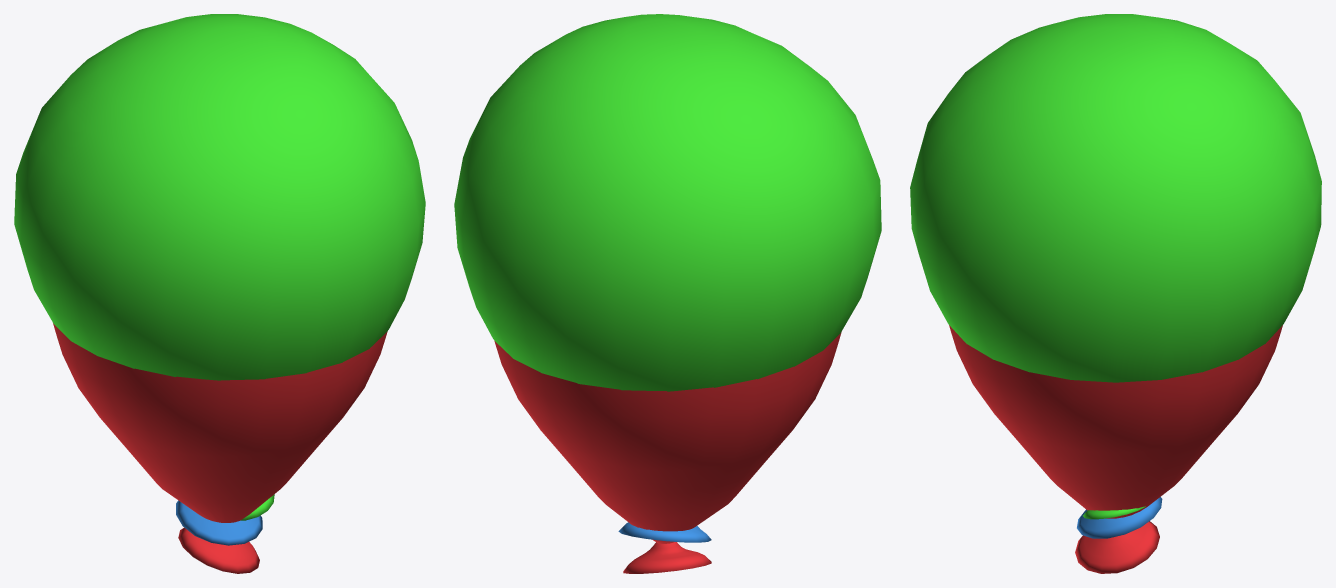
File: Balloons_01.fbx
3 renders of one model, left to right at view 1: azimuth 30°, elevation 25°; view 2: azimuth 150°, elevation 25°; view 3: azimuth 270°, elevation 25°, orthographic. The views are drawn at different scales.
Parts seen in each view (by area): view 1: Balloon_02, Balloon_03, Balloon_01; view 2: Balloon_02, Balloon_03, Balloon_01; view 3: Balloon_02, Balloon_03, Balloon_01.
Boxes of the visible parts, <box> form: Balloon_02: <box>14,14,425,520</box>; Balloon_03: <box>53,323,387,573</box>; Balloon_01: <box>176,500,262,545</box>; Balloon_02: <box>454,14,881,391</box>; Balloon_03: <box>494,331,841,573</box>; Balloon_01: <box>618,522,711,542</box>; Balloon_02: <box>910,14,1321,519</box>; Balloon_03: <box>949,325,1282,573</box>; Balloon_01: <box>1077,497,1162,538</box>.
Size of the model in its own units: 231 by 324 by 231.
